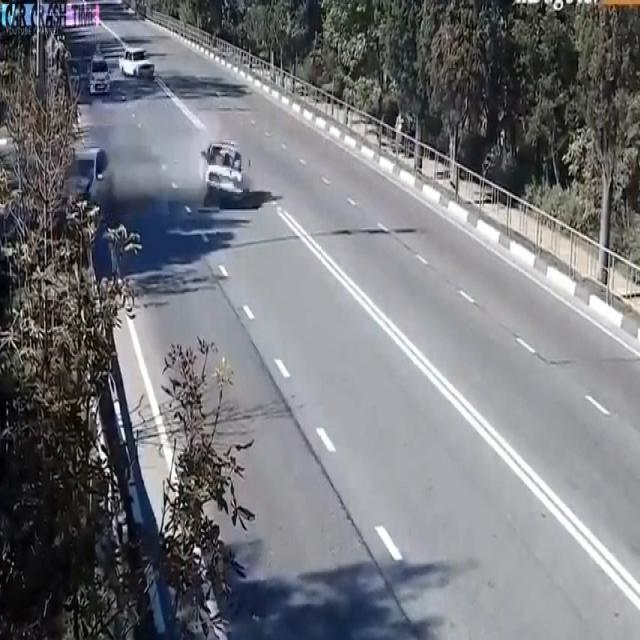Accident: (57, 115, 254, 241)
